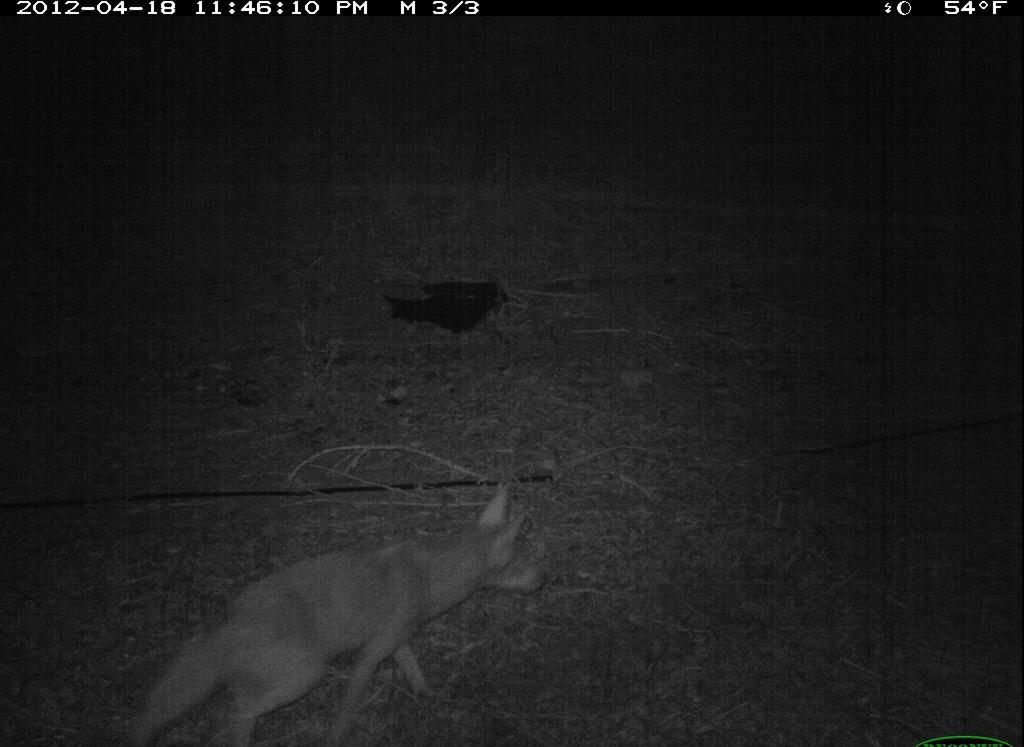coyote: (141, 486, 555, 745)
